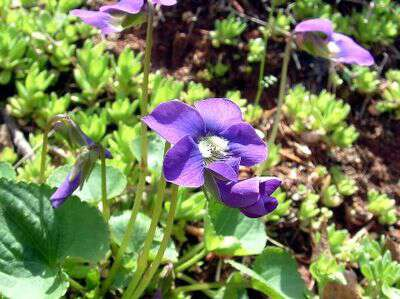violet: (131, 94, 284, 221)
